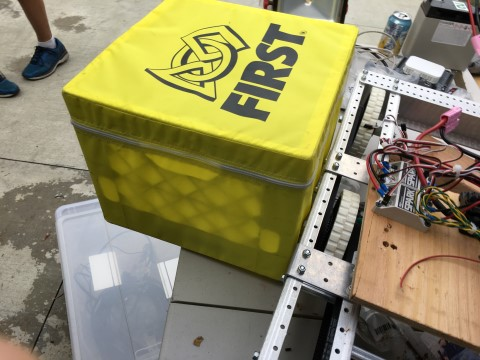cube: (61, 1, 360, 285)
